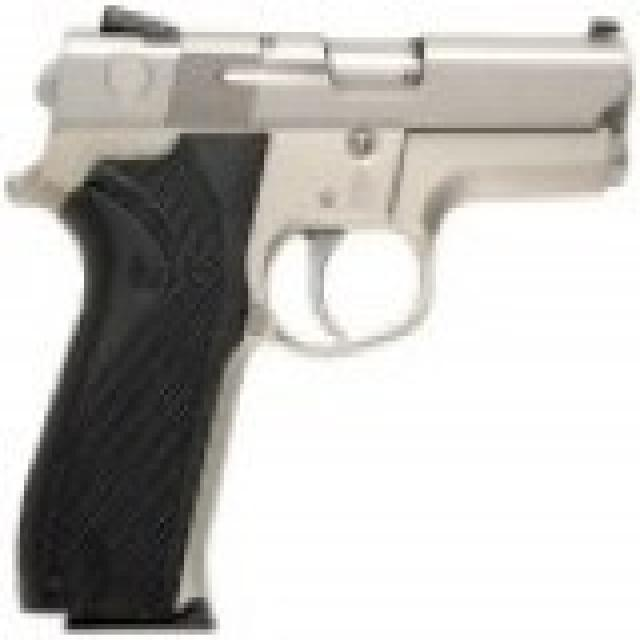gun: (12, 11, 624, 618)
